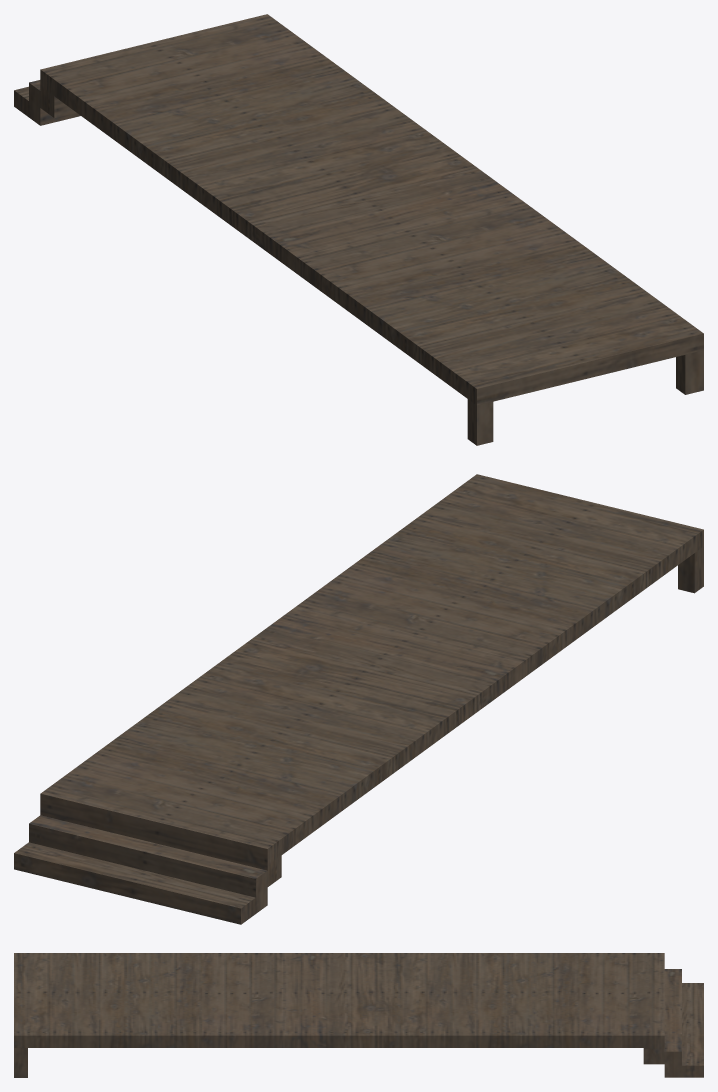
File: Dock.fbx
3 renders of one model, top to bottom at view 1: azimuth 30°, elevation 25°; view 2: azimuth 150°, elevation 25°; view 3: azimuth 270°, elevation 25°, orthographic. The views are drawn at different scales.
Parts seen in each view (by area): view 1: Cube; view 2: Cube; view 3: Cube.
Boxes of the visible parts, box(x1,y1,x2,y2) form: Cube: box(14, 14, 703, 445); Cube: box(14, 474, 703, 924); Cube: box(14, 953, 703, 1077).
Size of the model in its own units: 200 by 47.89 by 706.
